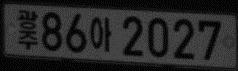0: (147, 17, 169, 58)
2: (172, 18, 195, 59), (122, 15, 143, 56)
6: (65, 12, 87, 53)
7: (197, 20, 221, 61)
8: (41, 11, 62, 51)
광주_V: (17, 9, 38, 51)
아: (90, 16, 112, 52)
